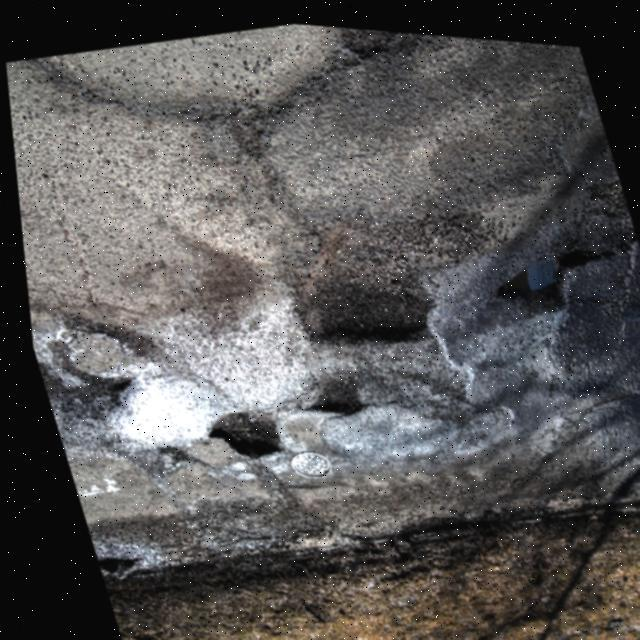pothole: (255, 205, 438, 370), (464, 203, 636, 326), (26, 334, 136, 446), (184, 385, 286, 471), (280, 355, 367, 430)
